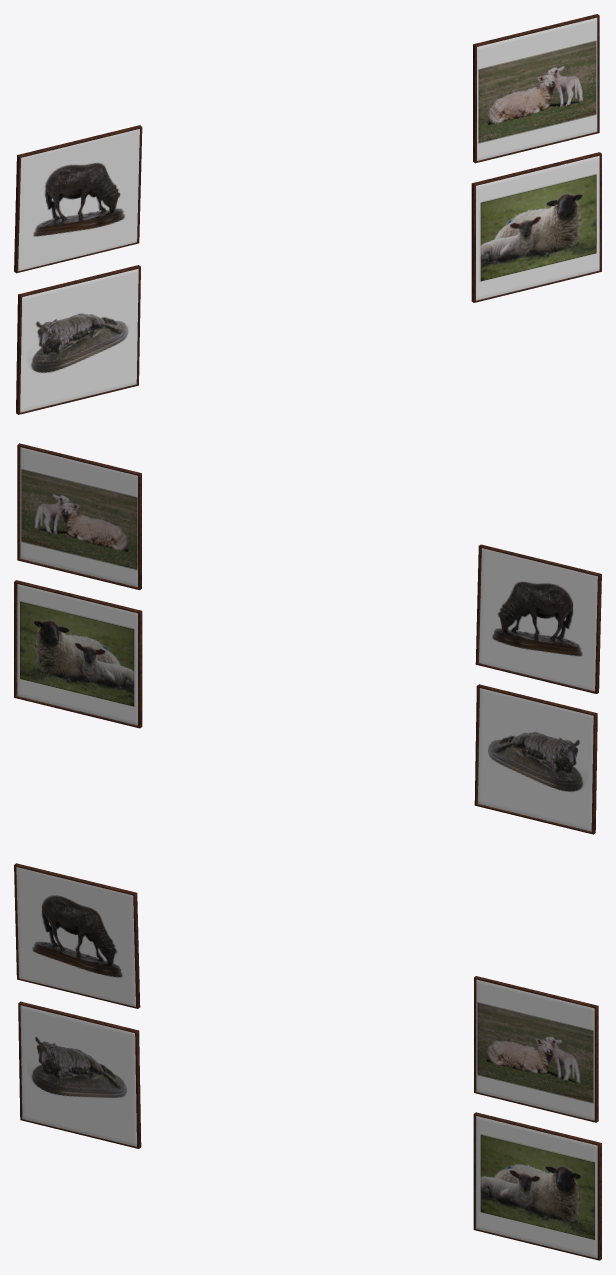
Rendered from sheep.glb.
3 renders of one model, top to bottom at view 1: azimuth 30°, elevation 25°; view 2: azimuth 150°, elevation 25°; view 3: azimuth 330°, elevation 25°, orthographic.
Parts seen in each view (by area): view 1: 62x82frame.002_436.004, 62x82frame.002_436.005, Object_19, Object_19.001, Object_18, Object_18.001; view 2: 62x82frame.002_436.005, 62x82frame.002_436.004, Object_19, Object_19.001, Object_18, Object_18.001; view 3: 62x82frame.002_436.004, 62x82frame.002_436.005, Object_19, Object_19.001, Object_18, Object_18.001.
Part boxes in pixels (x1=…): 62x82frame.002_436.004: x1=16, y1=265, x2=140, y2=414; 62x82frame.002_436.005: x1=14, y1=125, x2=142, y2=273; Object_19: x1=476, y1=156, x2=599, y2=300; Object_19.001: x1=477, y1=17, x2=597, y2=160; Object_18: x1=471, y1=152, x2=601, y2=302; Object_18.001: x1=473, y1=14, x2=599, y2=163; 62x82frame.002_436.005: x1=475, y1=544, x2=601, y2=693; 62x82frame.002_436.004: x1=474, y1=684, x2=597, y2=834; Object_19: x1=17, y1=584, x2=137, y2=725; Object_19.001: x1=20, y1=447, x2=137, y2=587; Object_18: x1=14, y1=580, x2=142, y2=728; Object_18.001: x1=17, y1=443, x2=141, y2=590; 62x82frame.002_436.004: x1=18, y1=1001, x2=141, y2=1148; 62x82frame.002_436.005: x1=14, y1=863, x2=140, y2=1008; Object_19: x1=476, y1=1116, x2=597, y2=1258; Object_19.001: x1=476, y1=979, x2=594, y2=1120; Object_18: x1=473, y1=1112, x2=601, y2=1260; Object_18.001: x1=474, y1=976, x2=598, y2=1122.
Size of the model in its own units: 3.26 by 1.39 by 0.084.
Materials: 8 (8 with a texture image).
